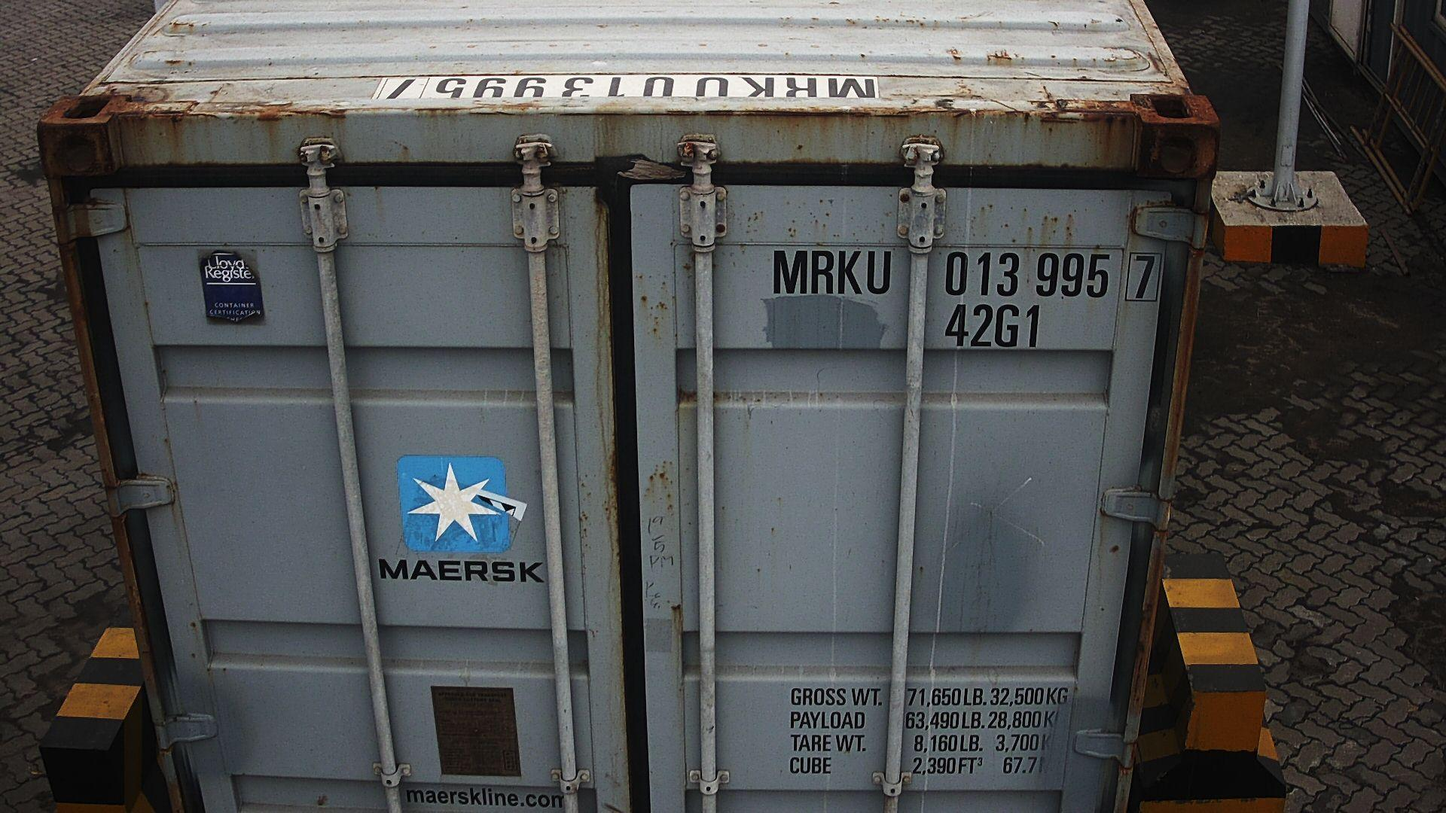container-numbers: (764, 245, 1168, 307), (940, 302, 1043, 353)
